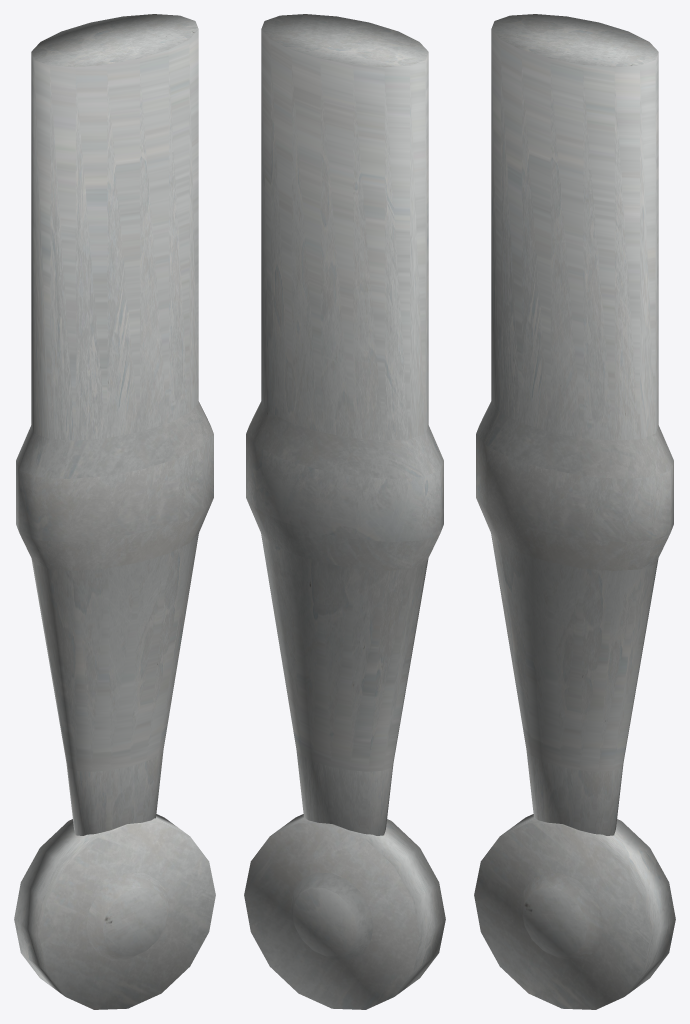
File: Steel_handle_1.fbx
3 views of the same model, side by side, from view 1: azimuth 30°, elevation 25°; view 2: azimuth 150°, elevation 25°; view 3: azimuth 330°, elevation 25° (orthographic).
Parts seen in each view (by area): view 1: Cylinder.001; view 2: Cylinder.001; view 3: Cylinder.001.
Part boxes in pixels (x1,y1,x2,y2): Cylinder.001: (14,14,215,1009); Cylinder.001: (244,14,445,1009); Cylinder.001: (474,14,675,1009).
Size of the model in its own units: 4.23 by 20.35 by 2.24.
